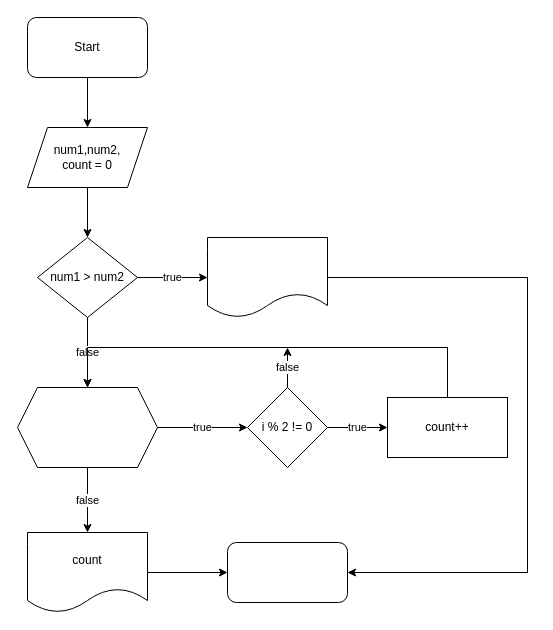
Some shapes in this 553 by 630 pixel diagram are drawn without their labels. The shapes that lost their labels are listed below. From the top down, each one's centre as x and y in pixels, then its label:
the point at 267,277: Birinci eded ikinci ededden boyuk olmamalidir
the point at 87,427: i=num1+1 ; i<num2; i++
the point at 287,572: End
